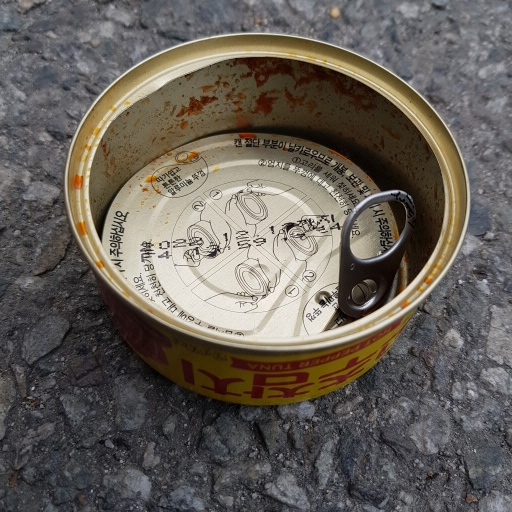Metal_1: (60, 30, 472, 404)
